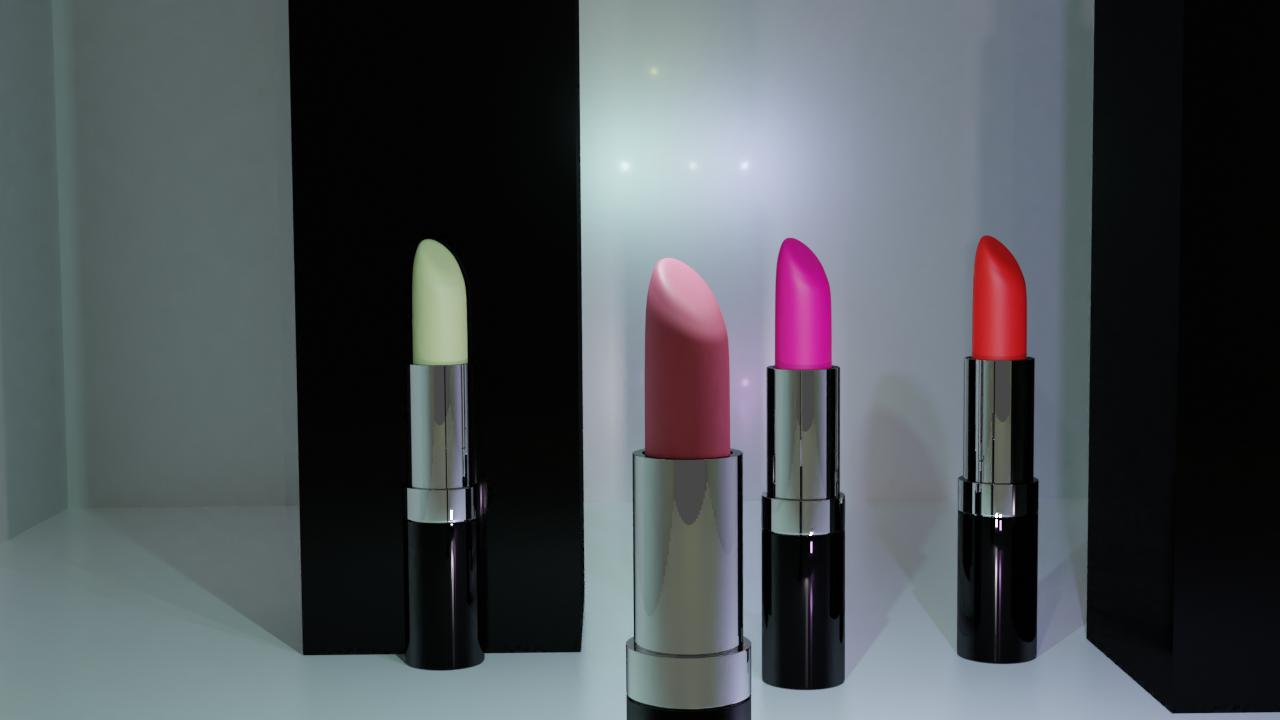CLASSIFIER_NAME: (625, 249, 754, 720), (760, 232, 847, 690), (955, 230, 1041, 664), (401, 234, 486, 671)
